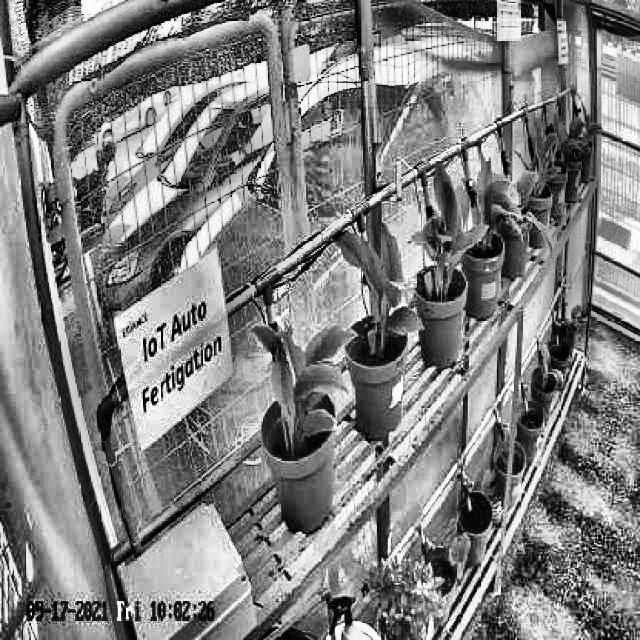plants: (256, 321, 358, 461), (331, 217, 422, 357), (412, 164, 490, 298), (448, 169, 510, 263)
